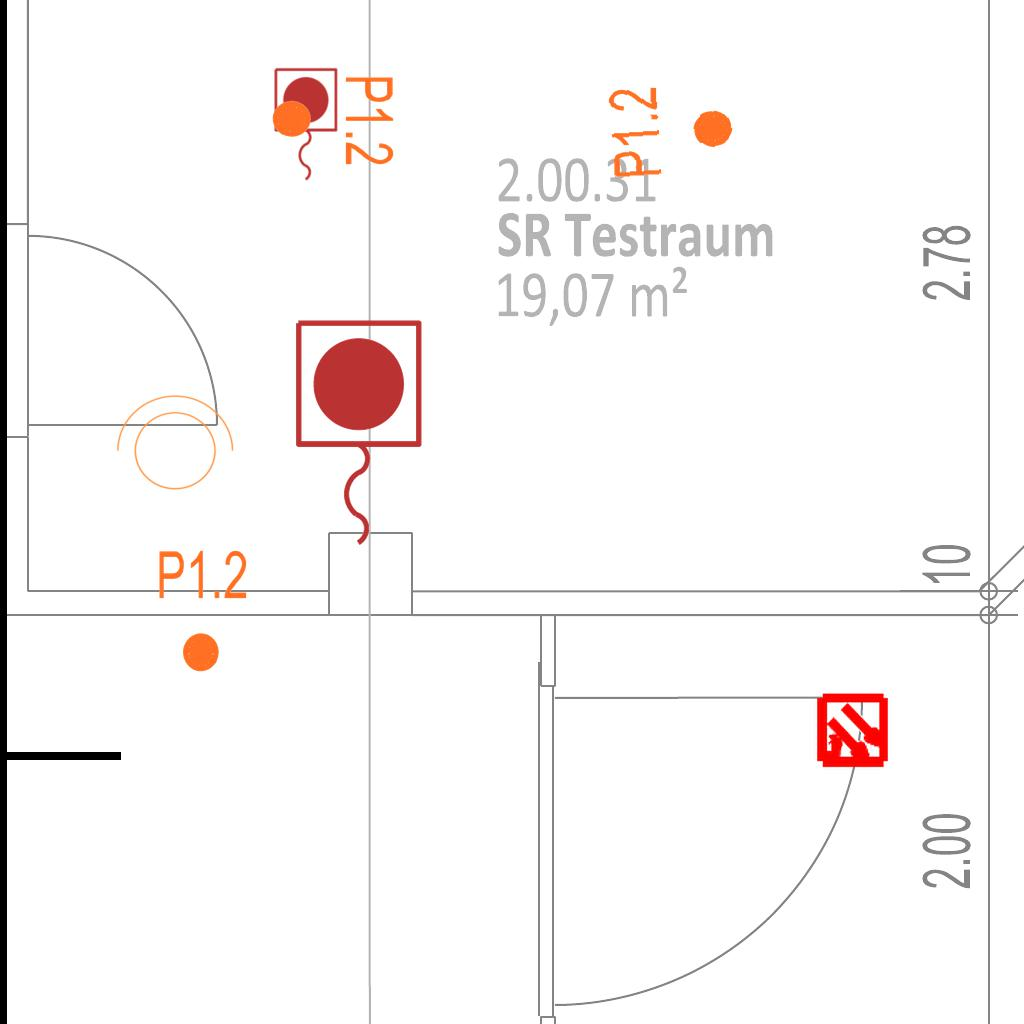Downlight_LED_Einbauleuchten_Flur: (604, 79, 739, 181), (156, 547, 249, 675), (269, 74, 397, 167)
OT_Multisensormelder_(Kombination_RMO_WMD): (796, 676, 909, 789)
Scheinwerfer_fuer_Alarmbeleuchtung: (106, 390, 238, 502)
Zugtaster: (285, 312, 429, 556), (269, 64, 341, 186)
